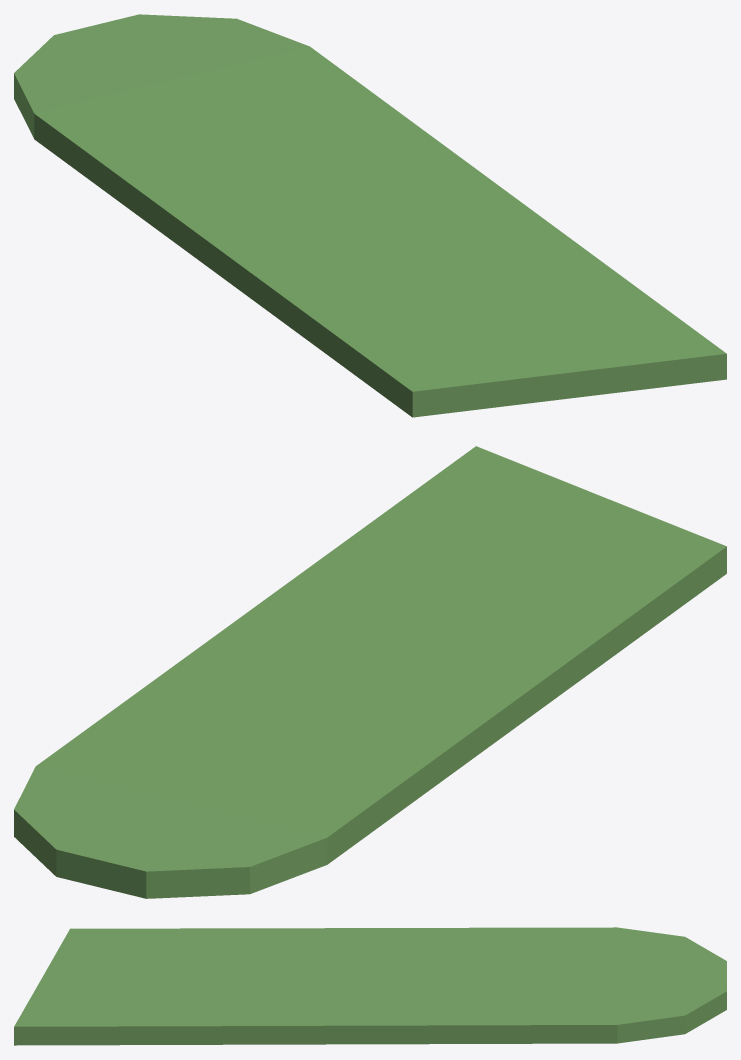
File: glassground3.fbx
The picture shows the model from 3 angles, top to bottom: view 1: azimuth 30°, elevation 25°; view 2: azimuth 150°, elevation 25°; view 3: azimuth 270°, elevation 25°; orthographic projection. The views are drawn at different scales.
Parts seen in each view (by area): view 1: pCylinder4; view 2: pCylinder4; view 3: pCylinder4.
Part boxes in pixels (x1=…): pCylinder4: x1=14, y1=14, x2=726, y2=417; pCylinder4: x1=14, y1=446, x2=726, y2=898; pCylinder4: x1=14, y1=927, x2=726, y2=1045.
Size of the model in its own units: 2 by 0.1959 by 6.19.
